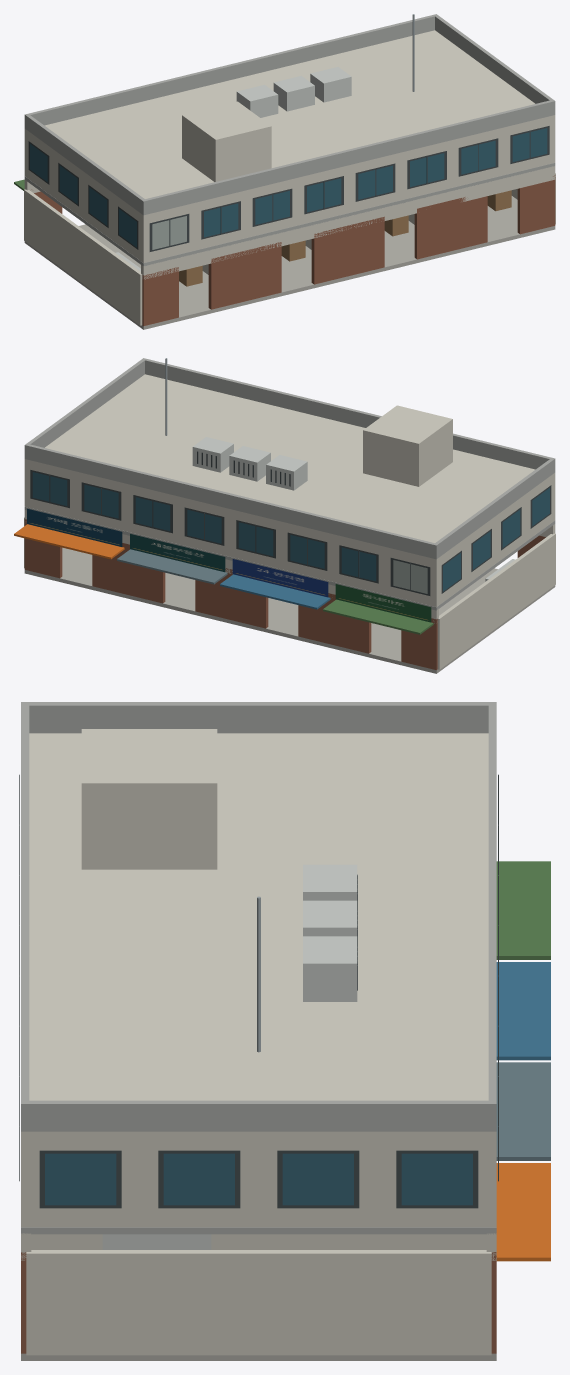
The model's file is retail_row.glb.
The picture shows the model from 3 angles, top to bottom: view 1: azimuth 30°, elevation 25°; view 2: azimuth 150°, elevation 25°; view 3: azimuth 270°, elevation 25°; orthographic projection. The views are drawn at different scales.
Visible parts, largest first — view 1: retail_row; view 2: retail_row; view 3: retail_row.
Part boxes in pixels (x1=…): retail_row: x1=14, y1=14, x2=555, y2=329; retail_row: x1=14, y1=358, x2=555, y2=673; retail_row: x1=19, y1=702, x2=550, y2=1360.
Bounding box in the file's own units: 28.25 × 12.44 × 15.66.
Materials: 15 (1 with a texture image).
